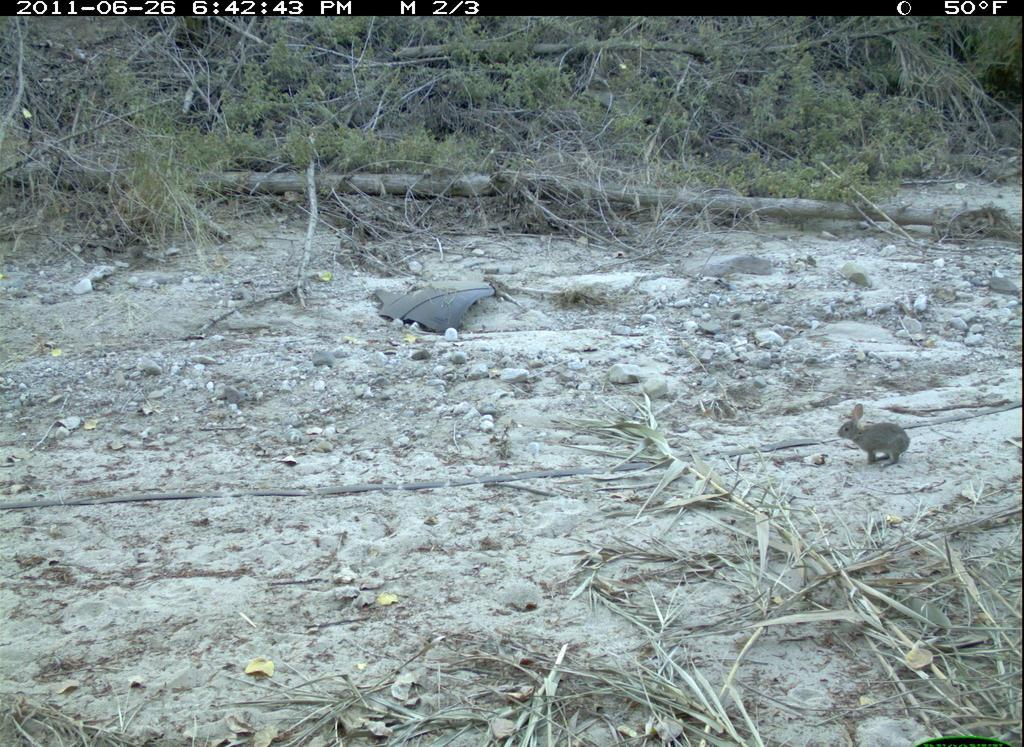rabbit: (835, 396, 918, 474)
